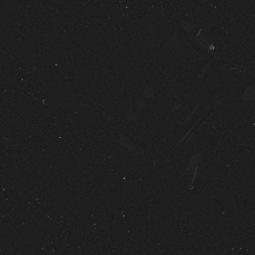proba_2: (143, 28, 243, 161)
